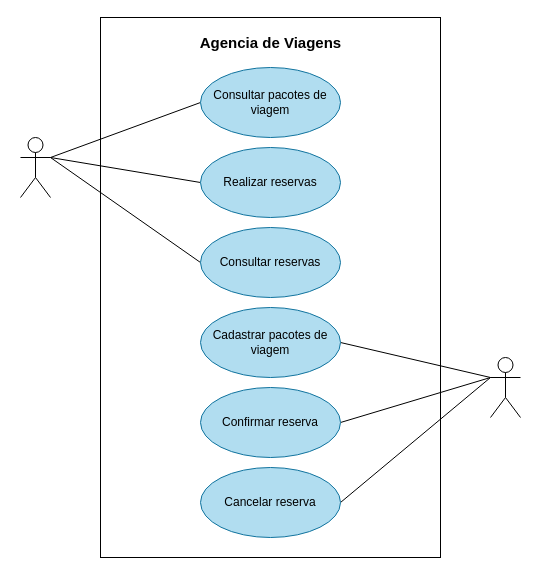
This 554x575 diagram has some shape labels left out. The shapes that lost their labels are listed below. From the top down, each one's box as (x1, y1, x2, y2) in pixels, then its label:
(20, 136, 50, 198): Cliente
(490, 356, 520, 418): Funcionario
